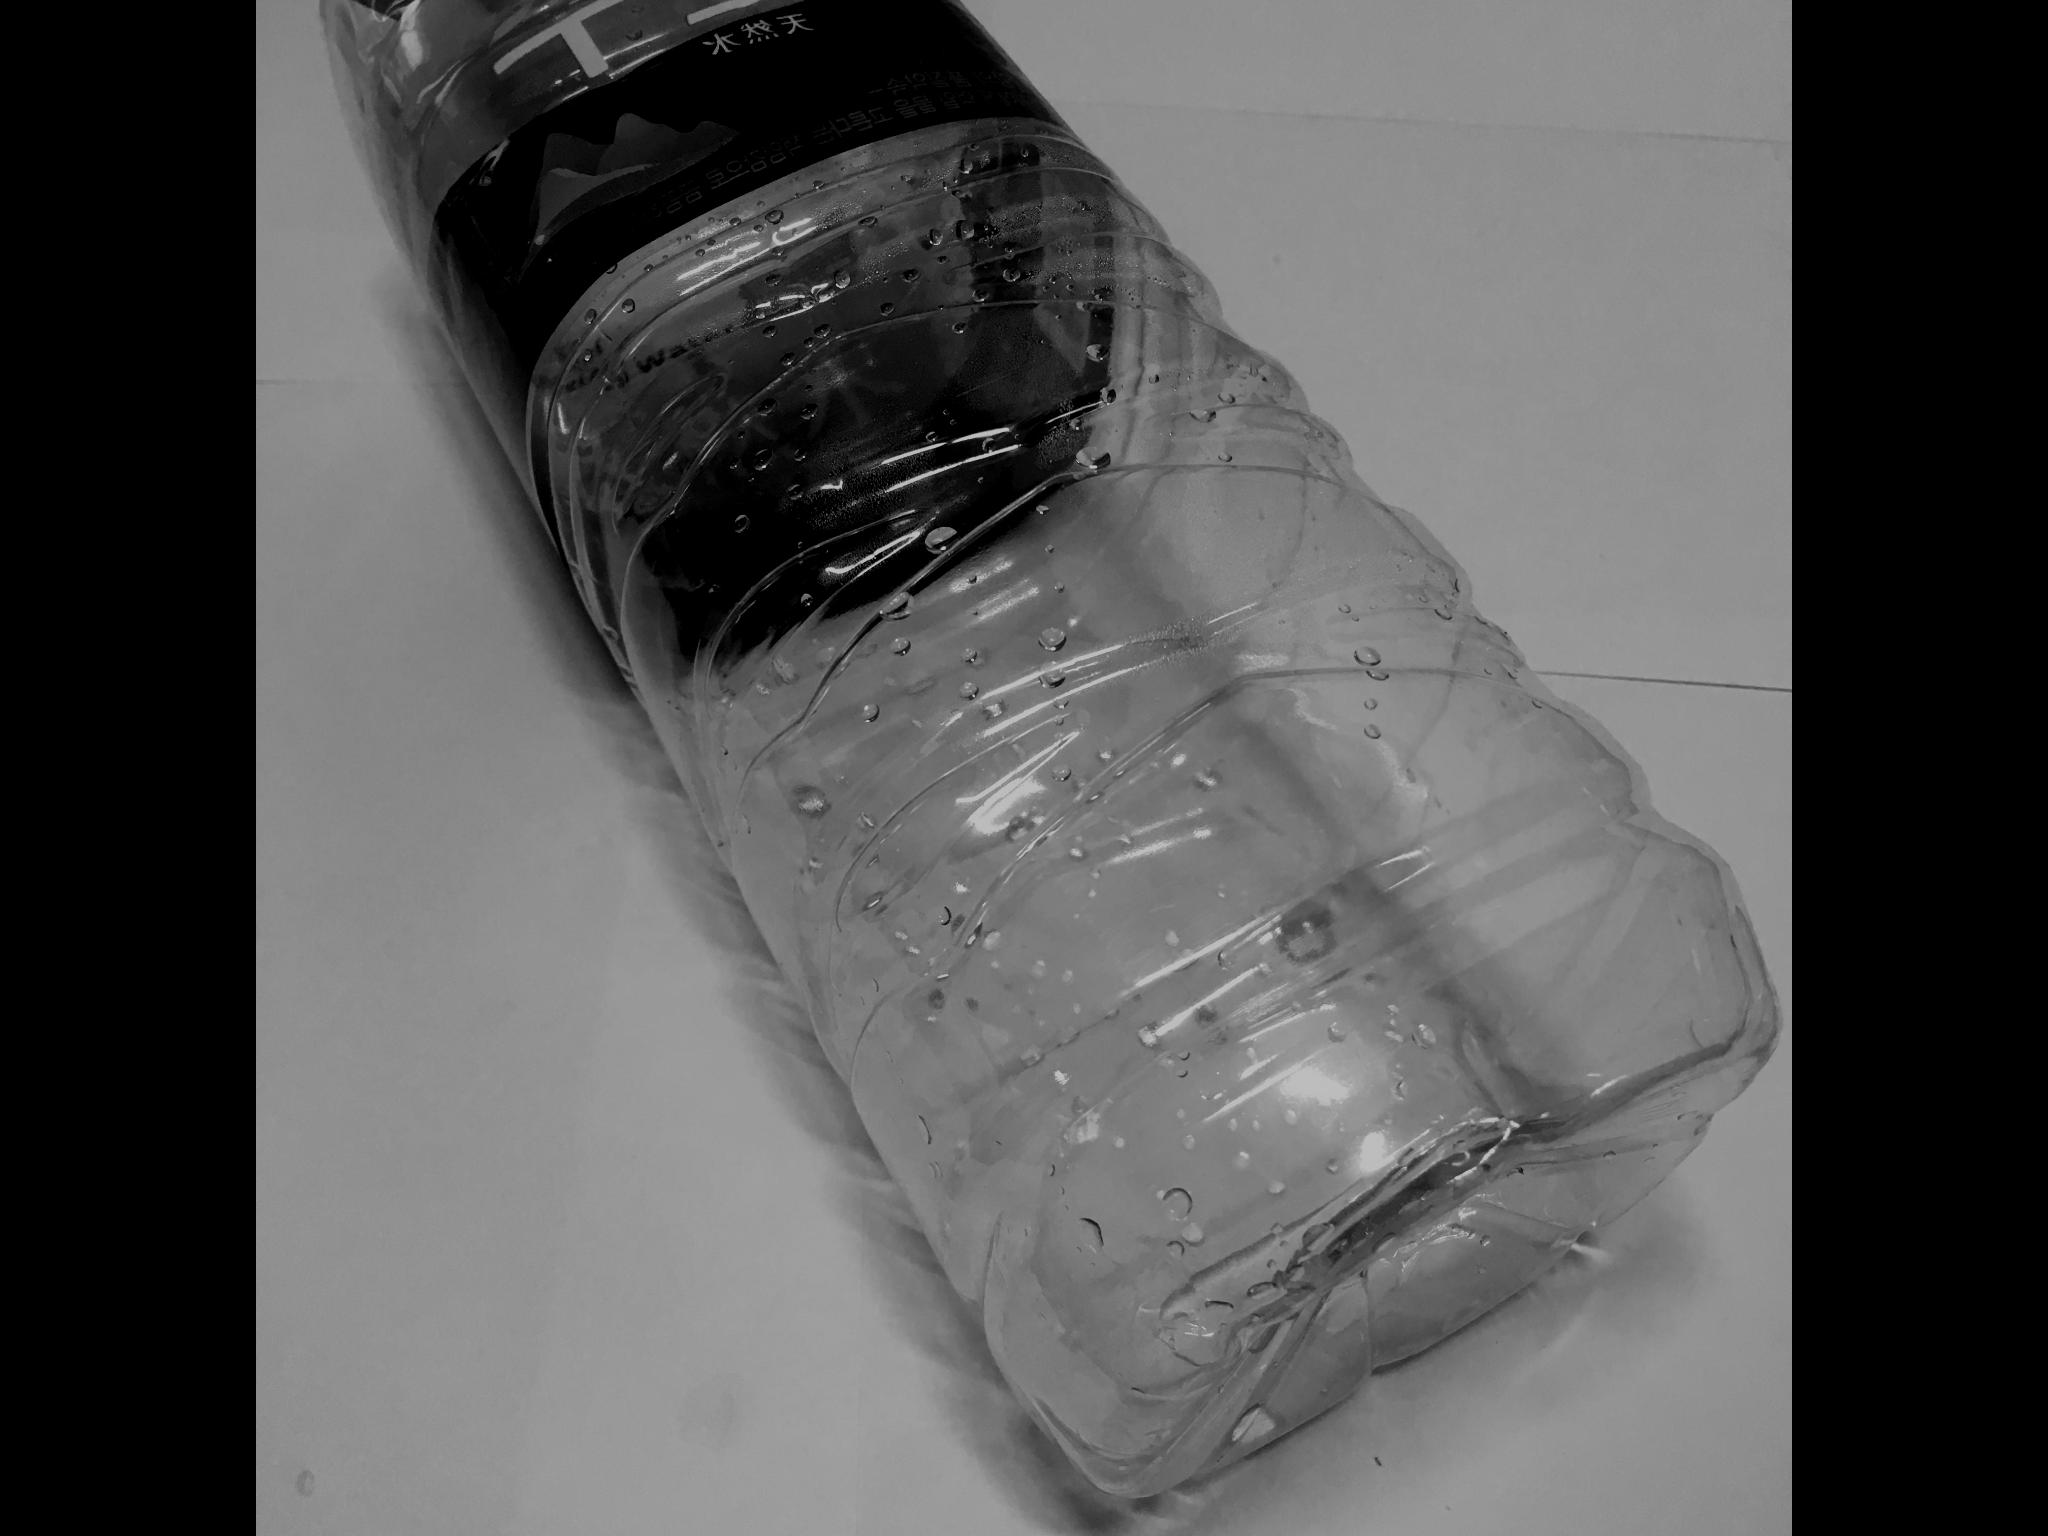bottle: (327, 0, 1775, 1507)
